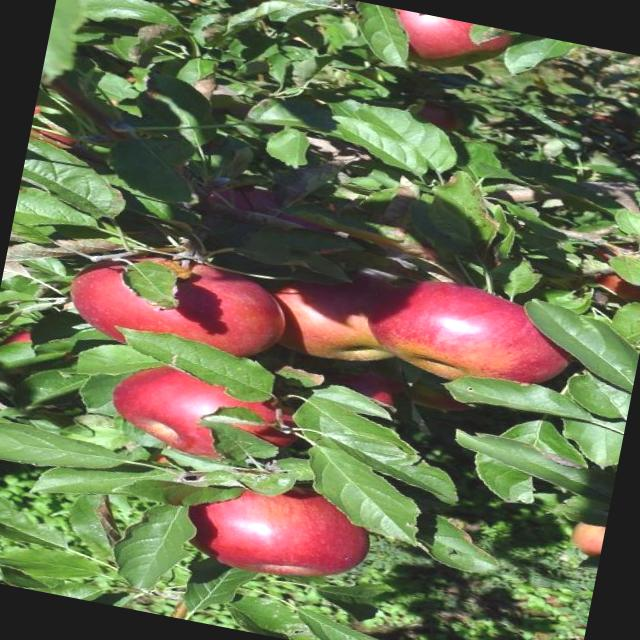Apple: (357, 268, 593, 406), (70, 242, 294, 372), (170, 464, 380, 594), (106, 354, 318, 476), (273, 270, 399, 370), (387, 9, 526, 84), (568, 520, 606, 558)
